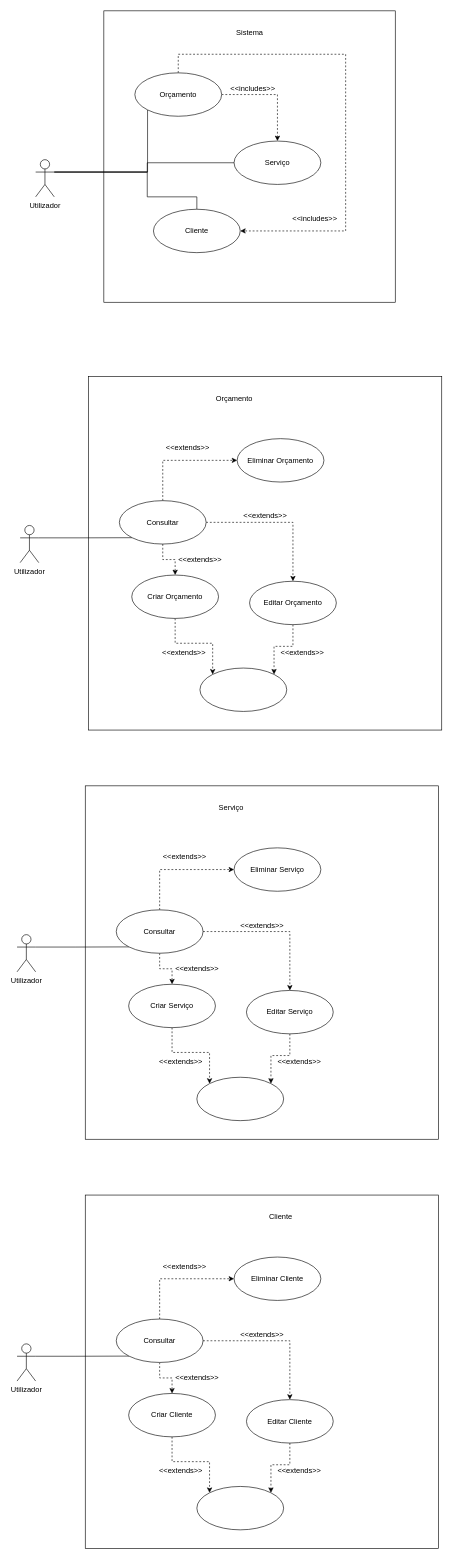
Some shapes in this 453 by 1559 pixel diagram are drawn without their labels. Each missing label, with the centre of its shape:
"Guardar Cliente" goes at point (240, 1508).
"Guardar Serviço" goes at point (240, 1099).
"Transferir e guardar Orçamento" goes at point (243, 689).
